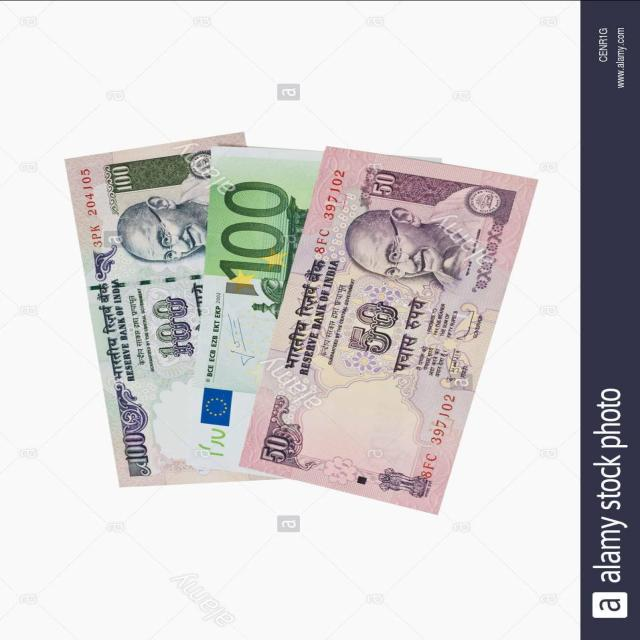50IndianRupees: (252, 151, 544, 523)
